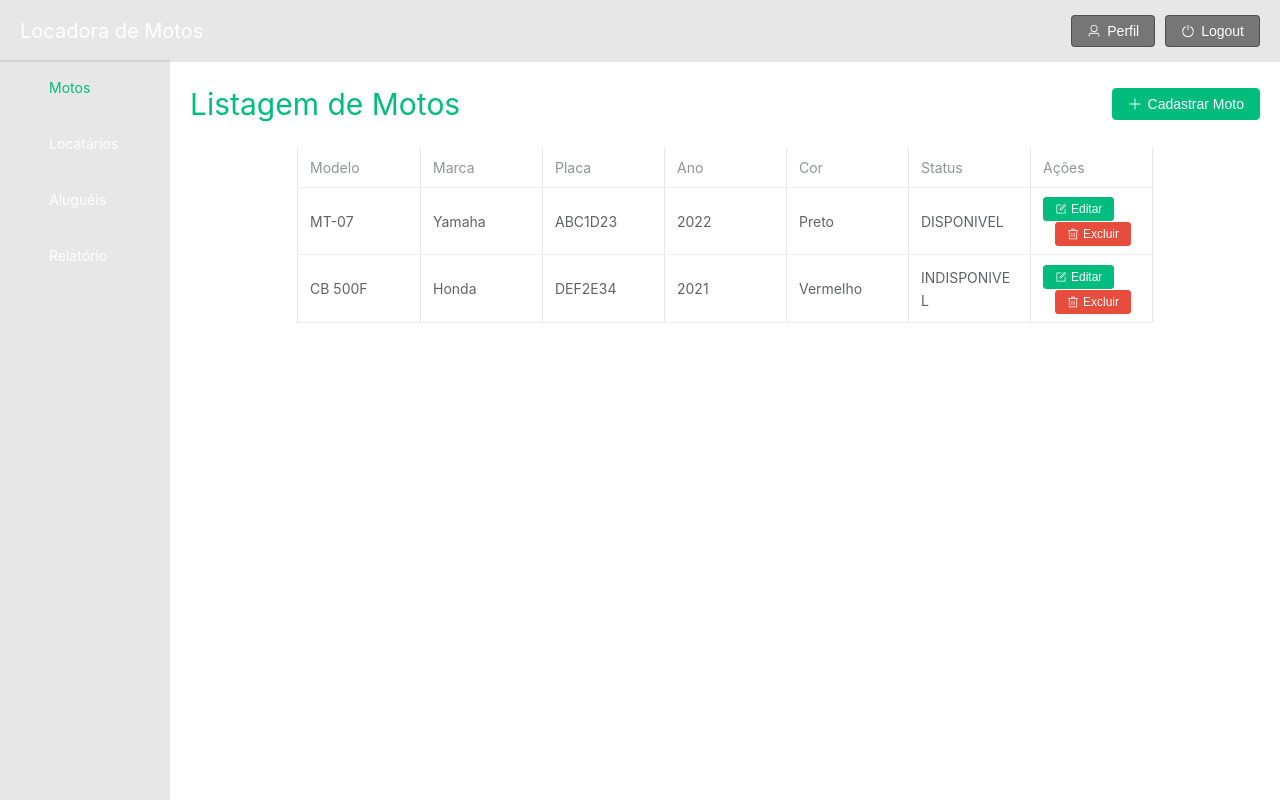
Test case: Tela de Listagem de Motos › deve abrir o modal de edição ao clicar em Editar
The image size is (1280, 800).
Step 1. Click the button "Editar" in the row of "MT-07" → (1079, 209), box [1043, 197, 1114, 221]
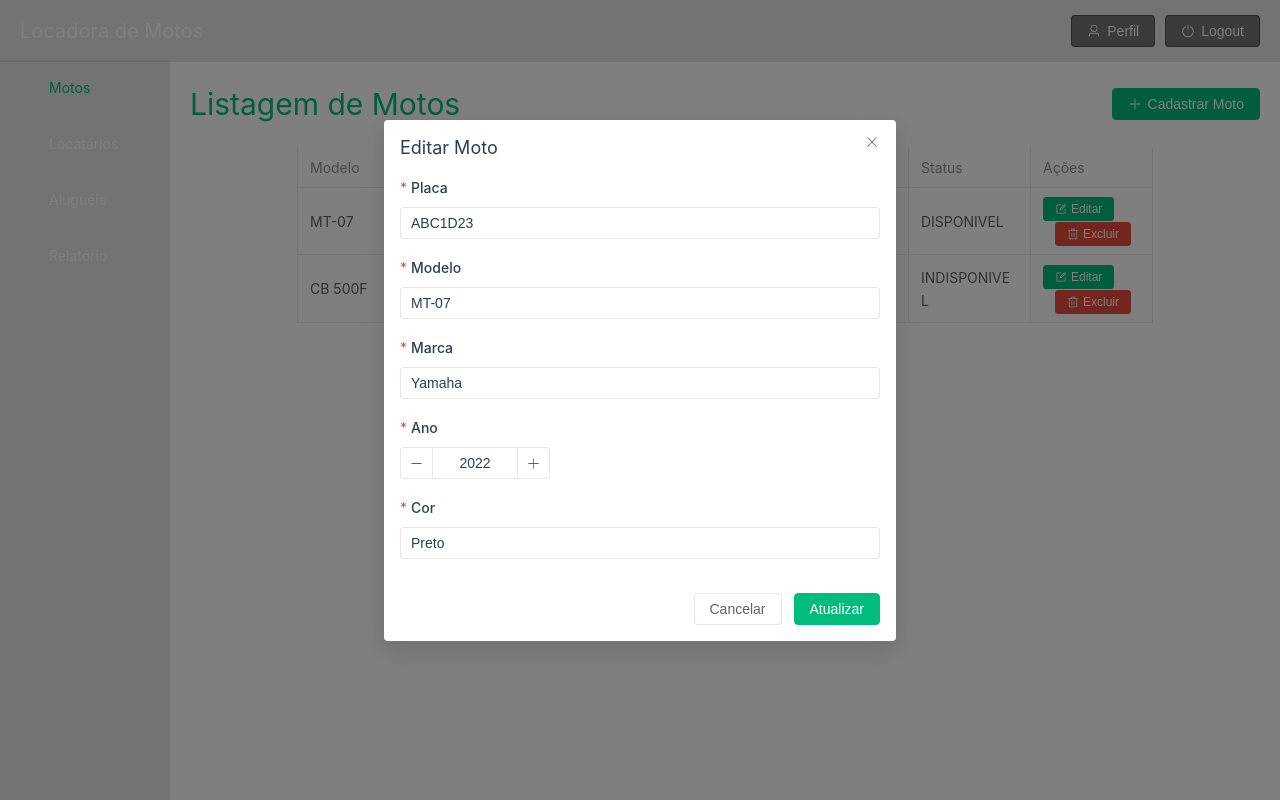
Expected: the heading "Editar Moto" is shown, [400, 137, 498, 158]
Expected: the field with placeholder "Ex: ABC1D23" is shown, [411, 208, 869, 238]
